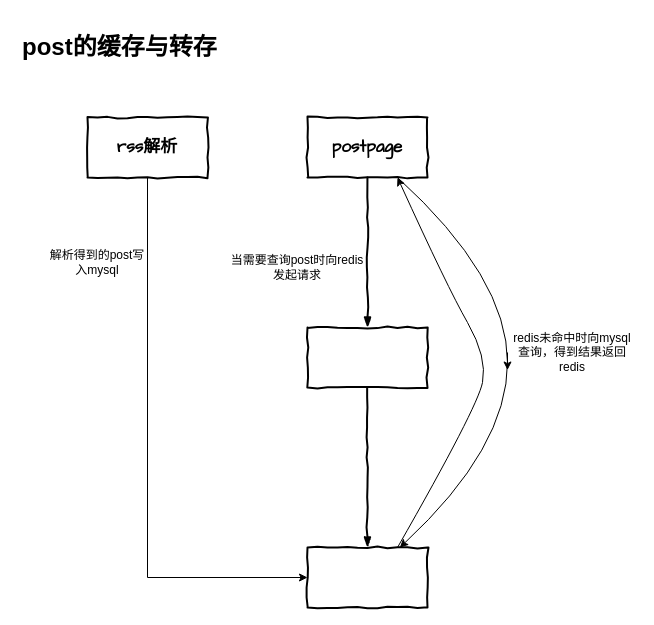
Some shapes in this 654 by 625 pixel diagram are drawn without their labels. The box of each missing label's shape, as (x1, y1, x2, y2) in pixels:
mysql: (306, 546, 428, 608)
redis: (306, 326, 428, 388)
